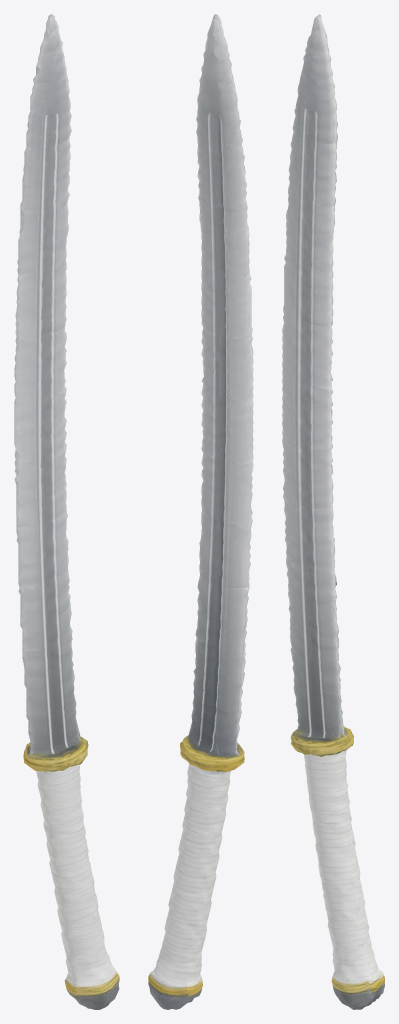
File: zoro-katana.opt.glb
The picture shows the model from 3 angles, left to right: view 1: azimuth 30°, elevation 25°; view 2: azimuth 150°, elevation 25°; view 3: azimuth 330°, elevation 25°; orthographic projection. The views are drawn at different scales.
Bounding box in the file's own units: 0.1996 × 1.91 × 0.0977.
1 material, 1 textured.
